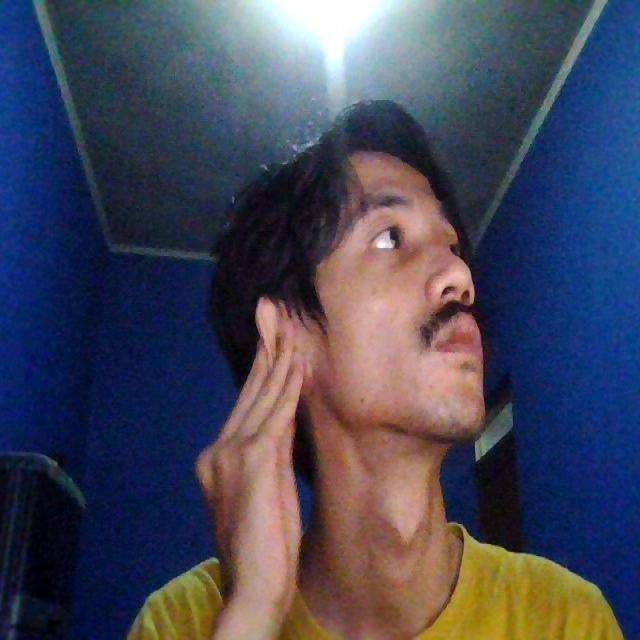melihat kekiri: (167, 120, 515, 455)
movement: (146, 300, 322, 595)
